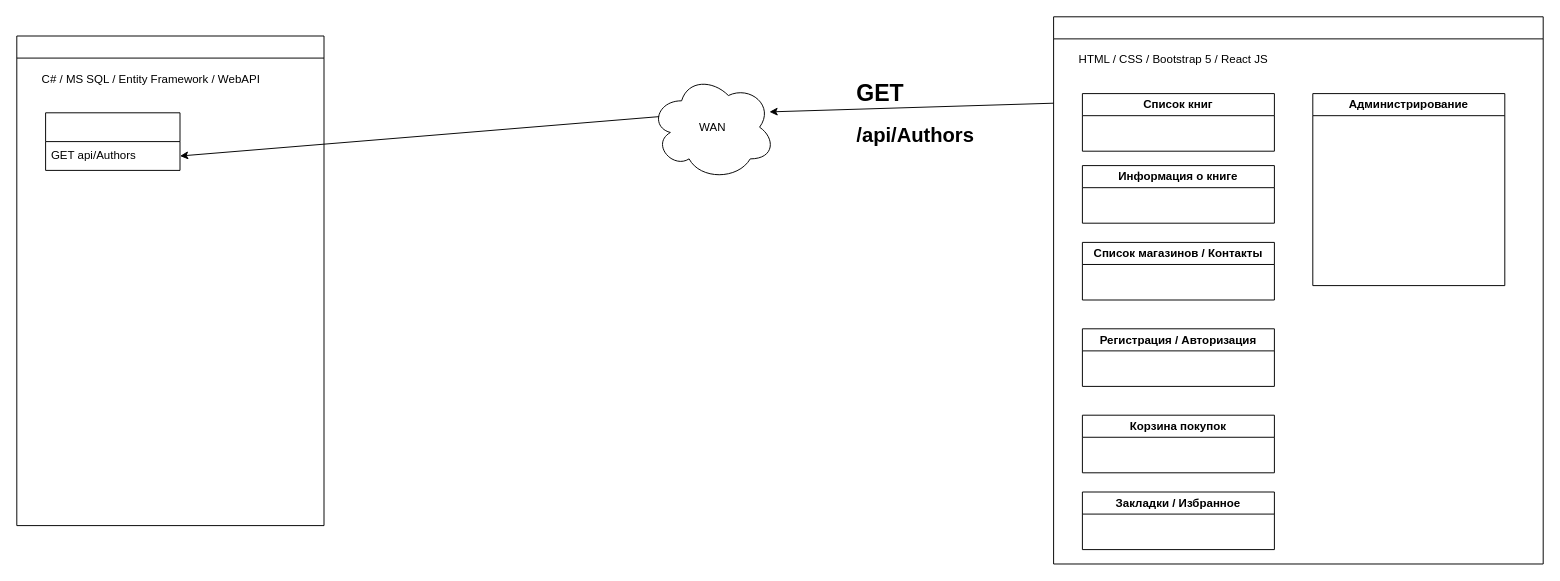
The diagram is 1560 pixels wide and 581 high, and some of its shapes have lost their labels. Each missing label, with the box of its shape:
AuthorsController: (45, 112, 180, 170)
Client / FrontEnd: (1053, 16, 1543, 564)
Server / BackEnd: (16, 35, 324, 526)
